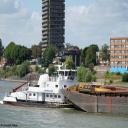tugboat: (3, 63, 89, 112)
